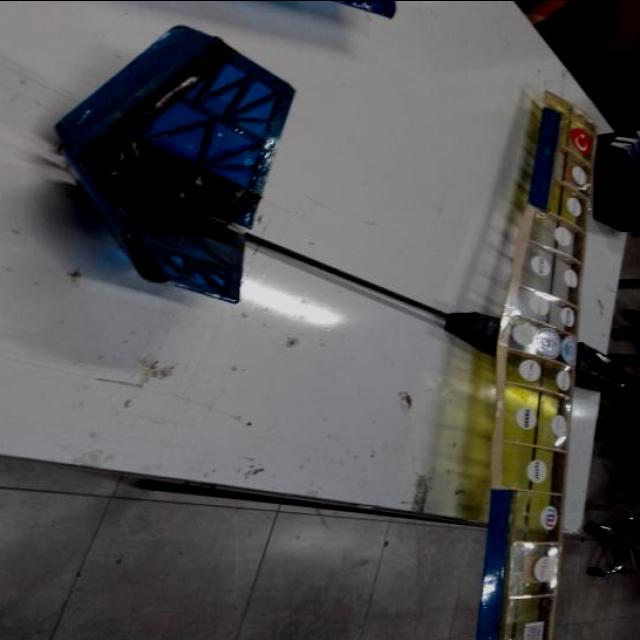plane: (53, 27, 632, 640)
